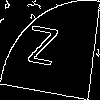Z: (25, 25, 59, 76)
